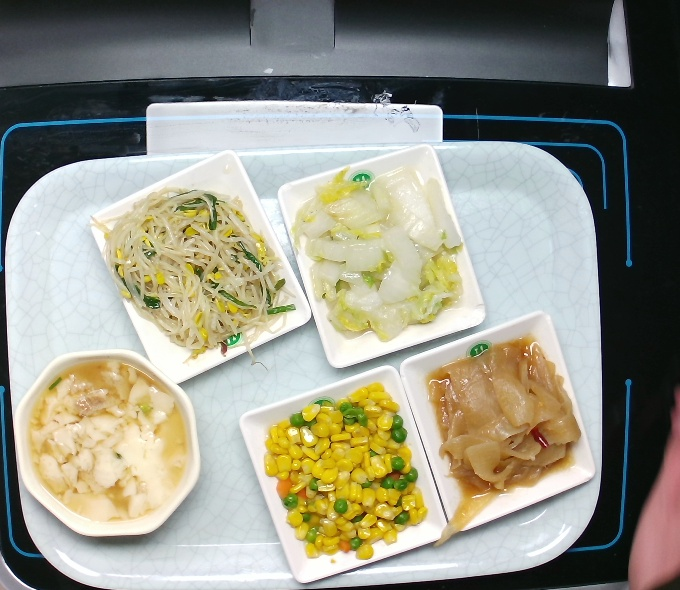wcq-DaBaiCai: (288, 159, 473, 346)
wcq-DongGua: (412, 330, 586, 553)
wcq-DouYa: (83, 182, 299, 377)
wcq-ShuiZhengDan: (18, 352, 197, 529)
wcq-TianMiTianDou: (258, 379, 437, 571)
